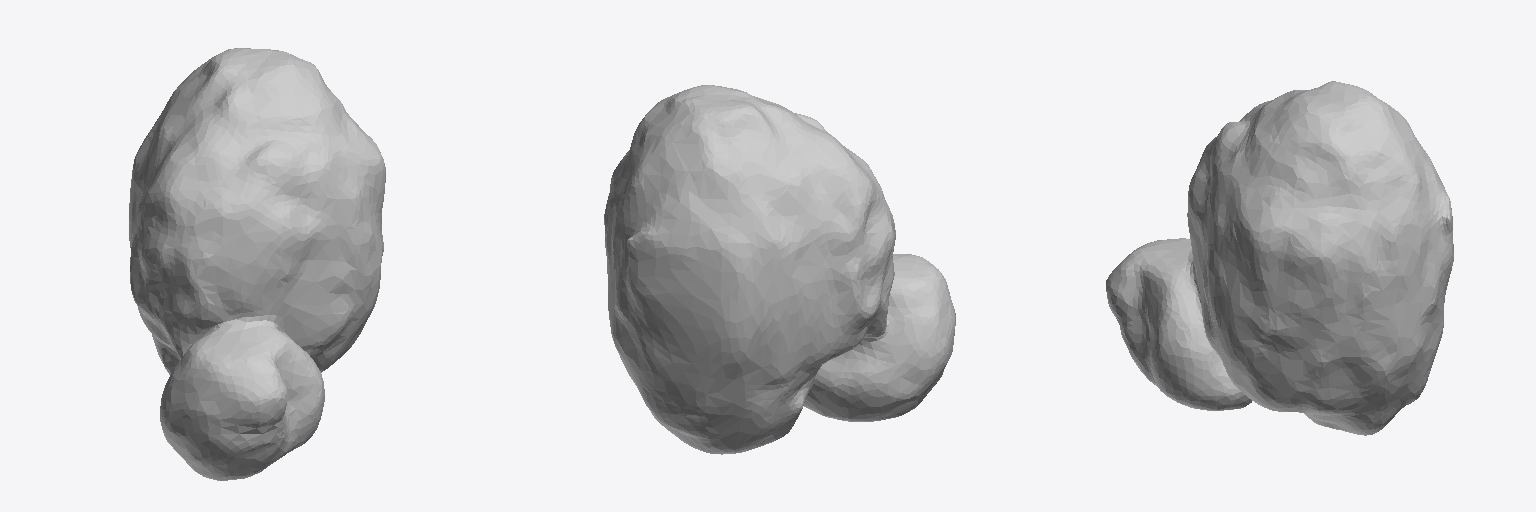
3 renders of one model, left to right at view 1: azimuth 30°, elevation 25°; view 2: azimuth 150°, elevation 25°; view 3: azimuth 270°, elevation 25°, orthographic.
Parts seen in each view (by area): view 1: Polygonal_Model_3_Triangles_0; view 2: Polygonal_Model_3_Triangles_0; view 3: Polygonal_Model_3_Triangles_0.
Part boxes in pixels (x1,y1,x2,y2): Polygonal_Model_3_Triangles_0: (129,48,385,480); Polygonal_Model_3_Triangles_0: (604,85,955,454); Polygonal_Model_3_Triangles_0: (1106,81,1453,435).
Bounding box in the file's own units: 1.26 × 1.54 × 1.42.